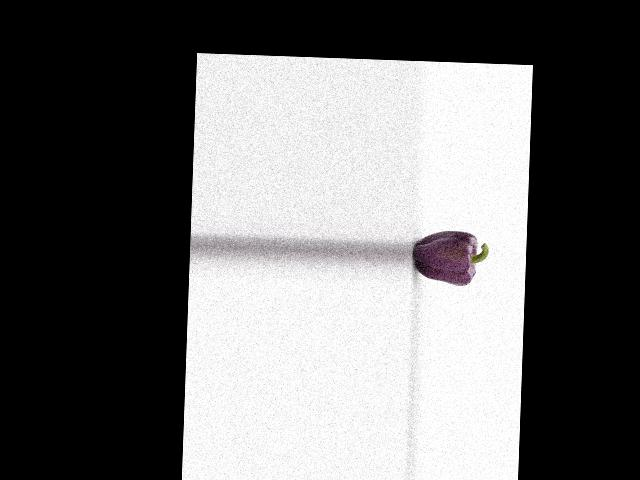bell_pepper: (413, 223, 488, 291)
